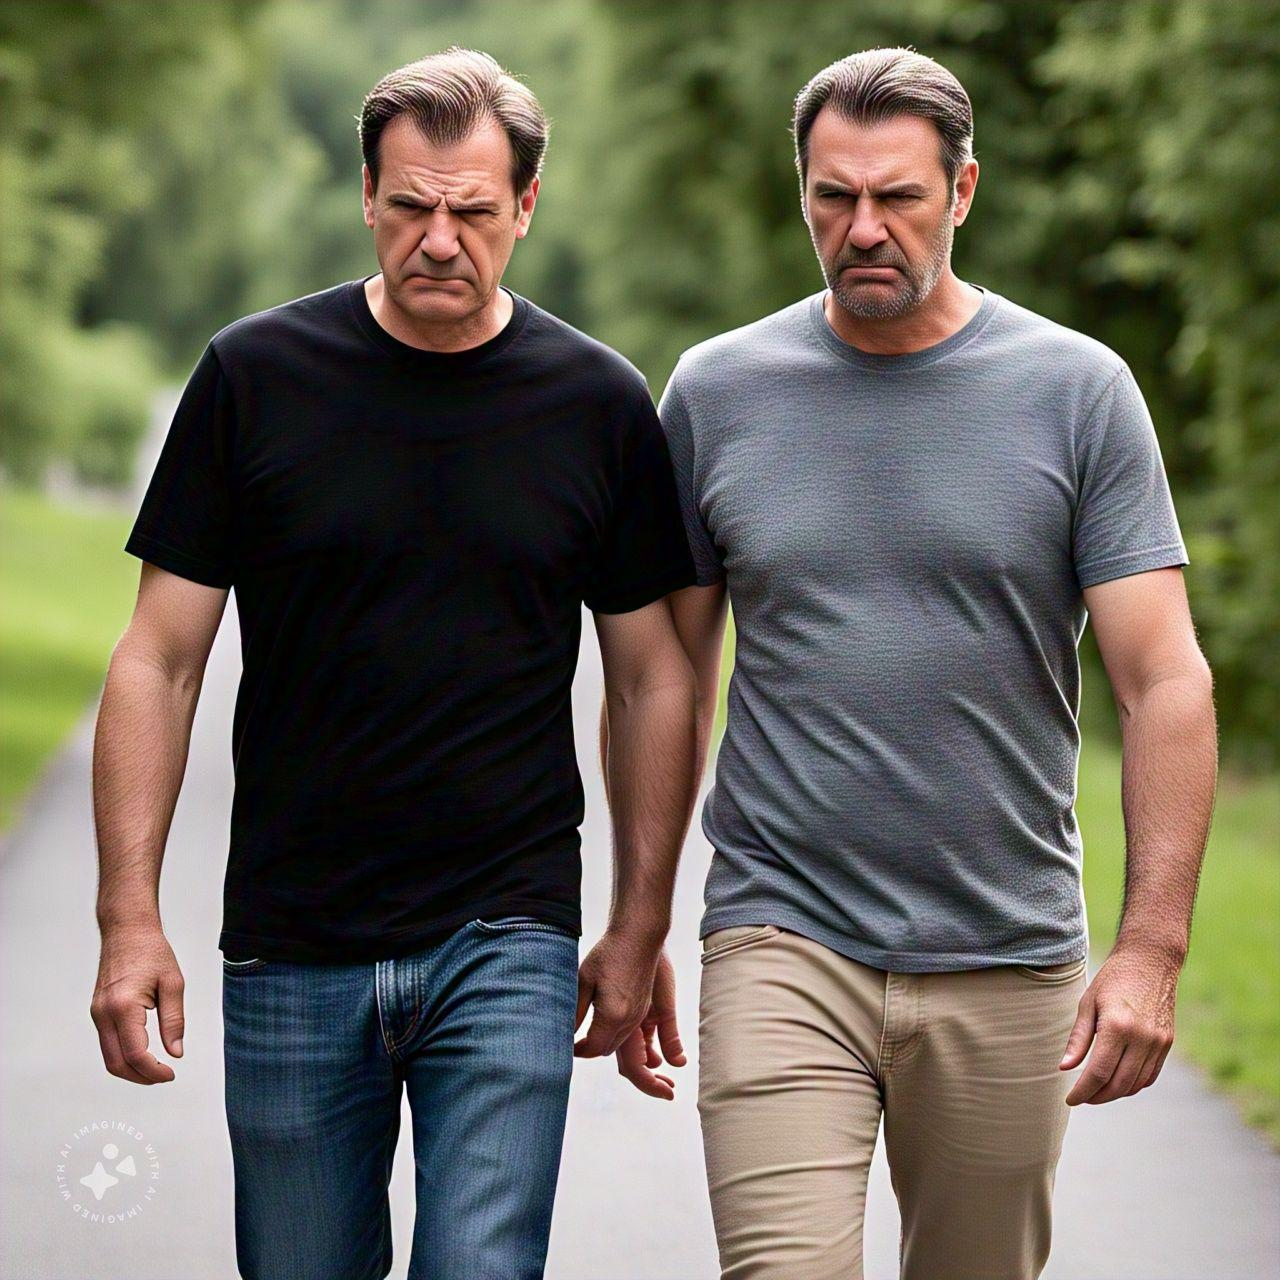normal: (796, 50, 975, 322)
raiva: (370, 63, 542, 332)
